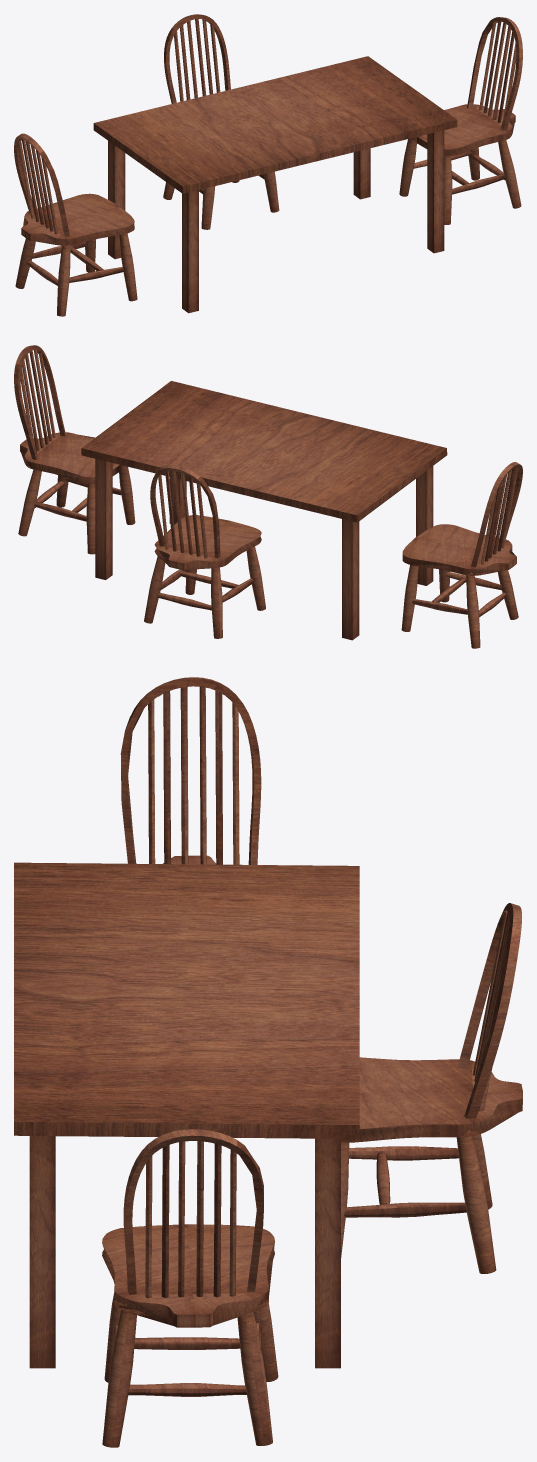
The model's file is mesa.obj.
3 views of the same model, one above another, from view 1: azimuth 30°, elevation 25°; view 2: azimuth 150°, elevation 25°; view 3: azimuth 270°, elevation 25° (orthographic). The views are drawn at different scales.
Visible parts, largest first — view 1: pCylinder40; view 2: pCylinder40; view 3: pCylinder40.
Boxes of the visible parts, x1,y1,x2,y2 form: pCylinder40: (14, 14, 522, 316); pCylinder40: (14, 345, 522, 648); pCylinder40: (14, 677, 522, 1447).
Size of the model in its own units: 4.5 by 1.55 by 2.11.
Materials: 1 (1 with a texture image).
